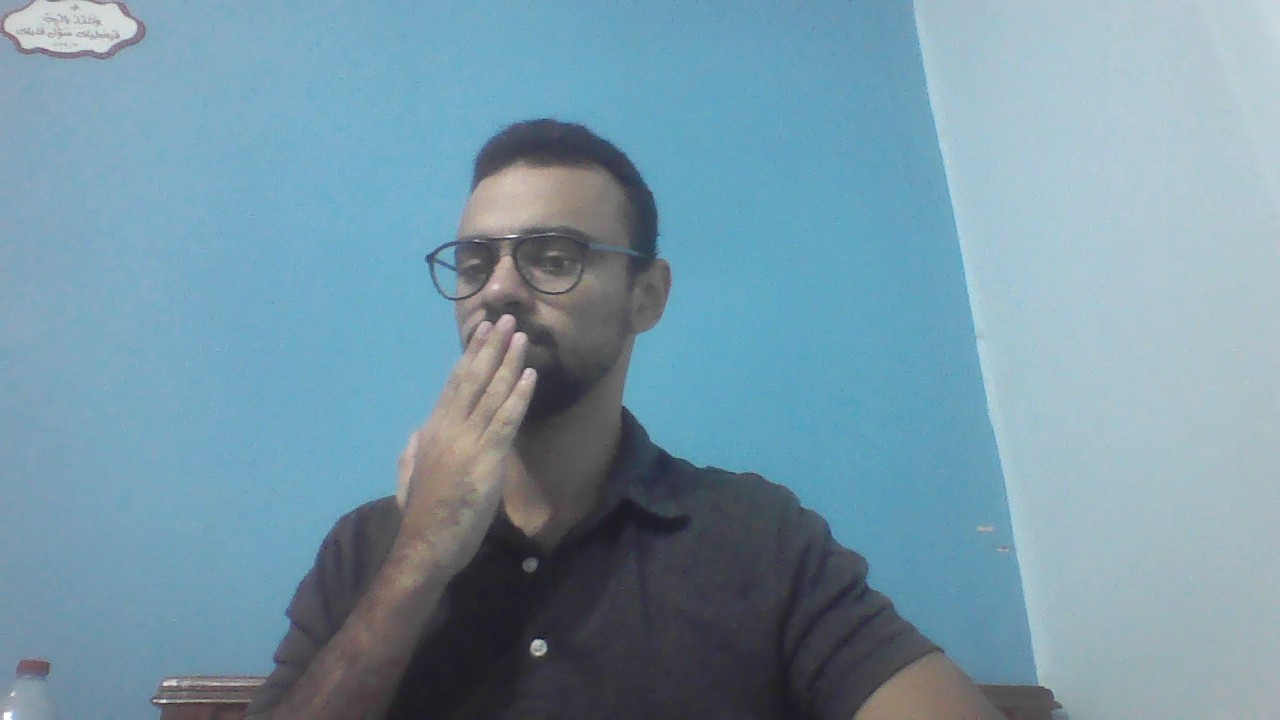thankyou: (394, 321, 537, 551)
